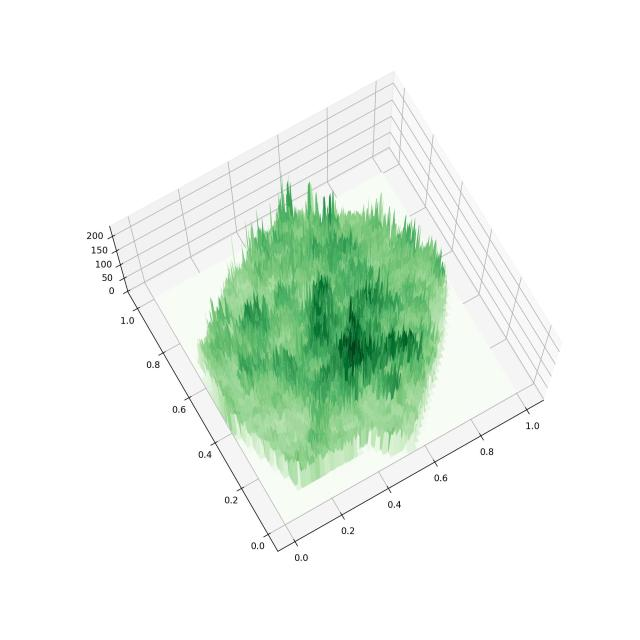spruce: (71, 57, 568, 599)
